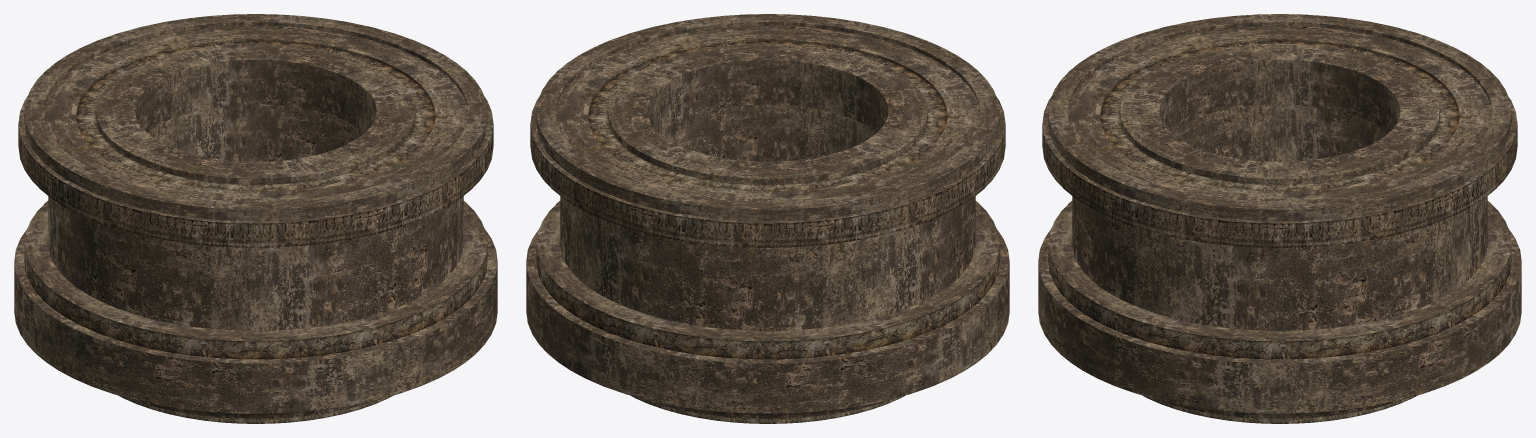
File: materials_5_wall_cylinder_3.fbx
3 views of the same model, side by side, from view 1: azimuth 30°, elevation 25°; view 2: azimuth 150°, elevation 25°; view 3: azimuth 270°, elevation 25° (orthographic).
Visible parts, largest first — view 1: materials_5_wall_cylinder_3; view 2: materials_5_wall_cylinder_3; view 3: materials_5_wall_cylinder_3.
Part boxes in pixels (x1,y1,x2,y2): materials_5_wall_cylinder_3: (14,14,497,423); materials_5_wall_cylinder_3: (526,14,1009,423); materials_5_wall_cylinder_3: (1038,14,1521,423).
Bounding box in the file's own units: 536 × 297 × 536.
